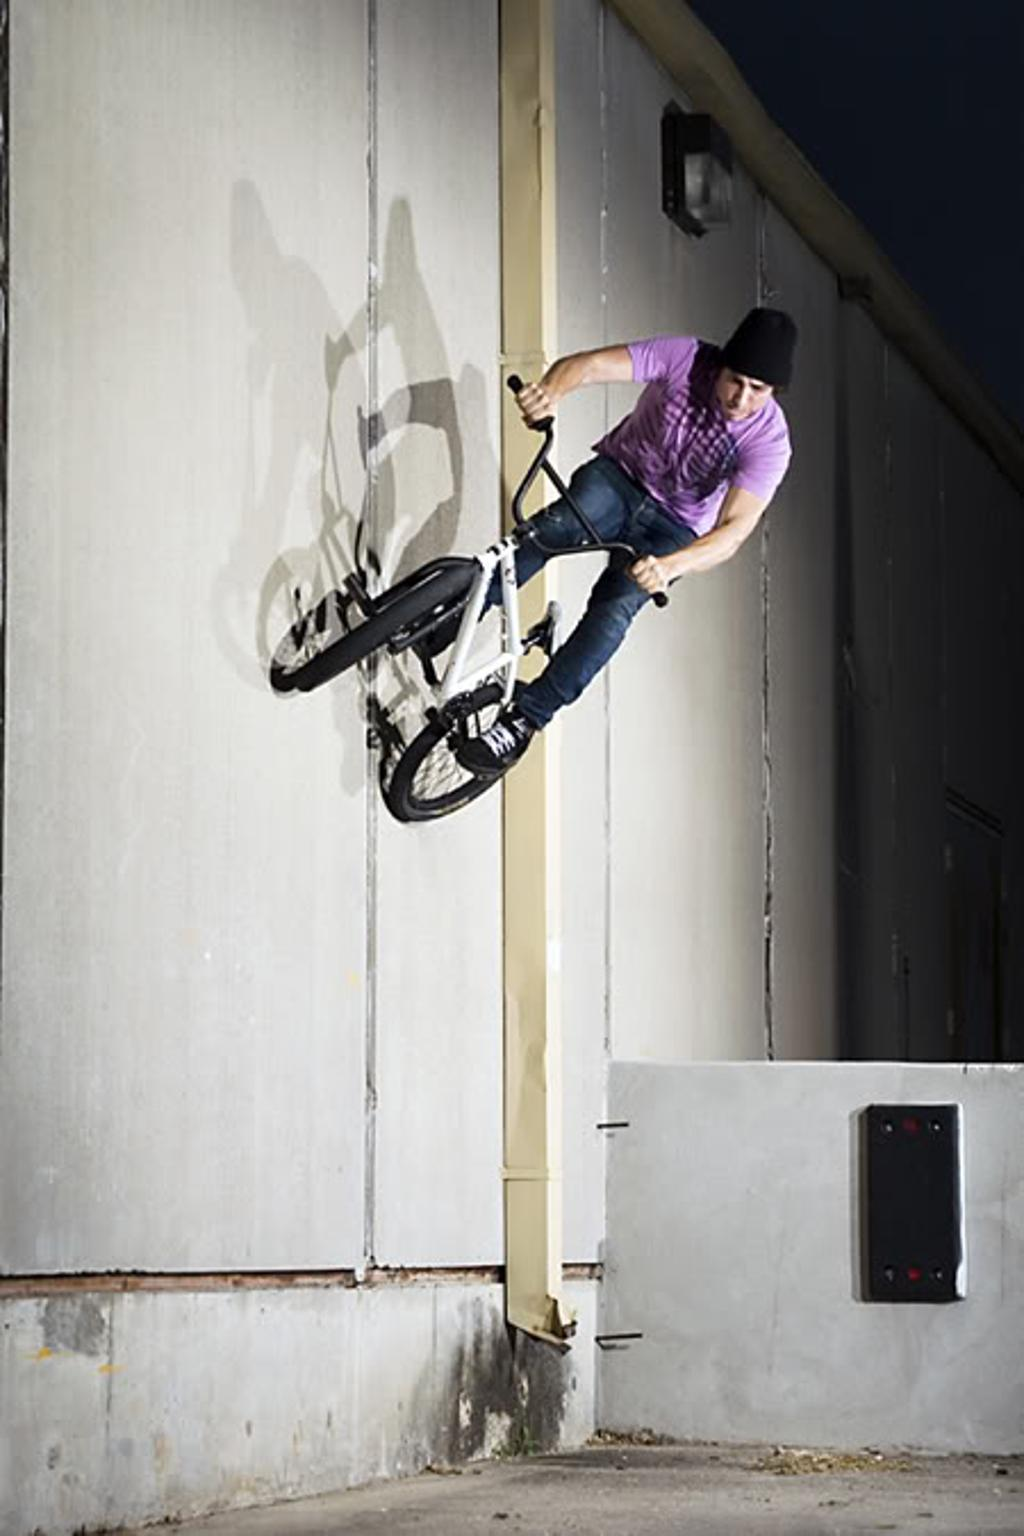face: (716, 364, 772, 421)
